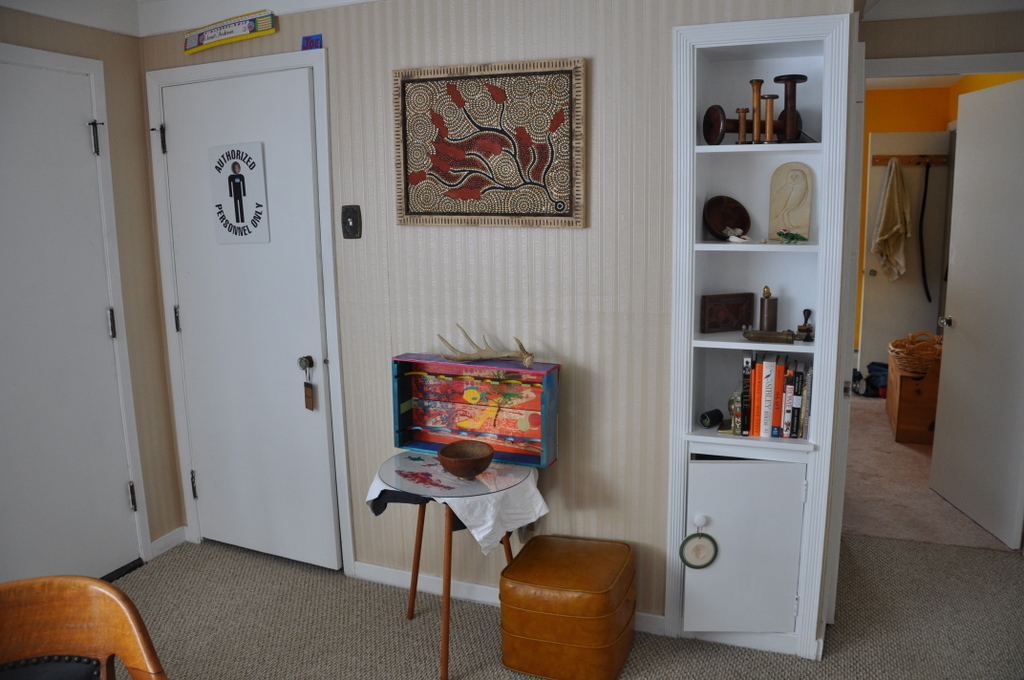Door: (143, 6, 346, 586), (1, 59, 144, 579), (926, 75, 1023, 550), (860, 132, 946, 371)
